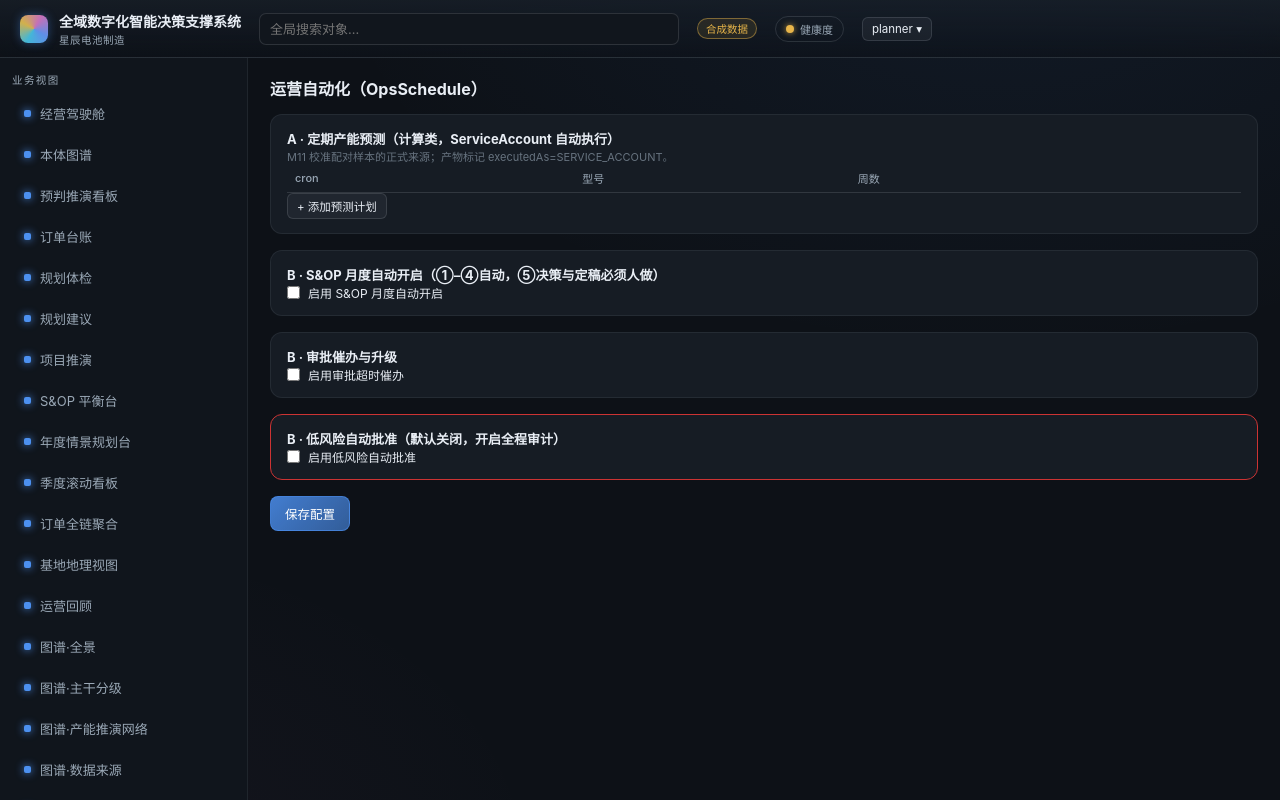
Test: F40 · 运营自动化（OpsSchedule） › tenant_admin 配置定期预测并保存；autoApprove 默认关闭
The image size is (1280, 800).
expect the element with test id "ops-schedule-page" is shown: met, box [270,76,1258,531]
expect the checkbox with test id "autoapprove-enabled" is not checked: met, box [287,450,300,463]
添加一条定期预测计划
What coordinates should you click on to do the following:
click the button with test id "add-forecast"
I would click on:
 (337, 206)
Its box is [287,193,387,219].
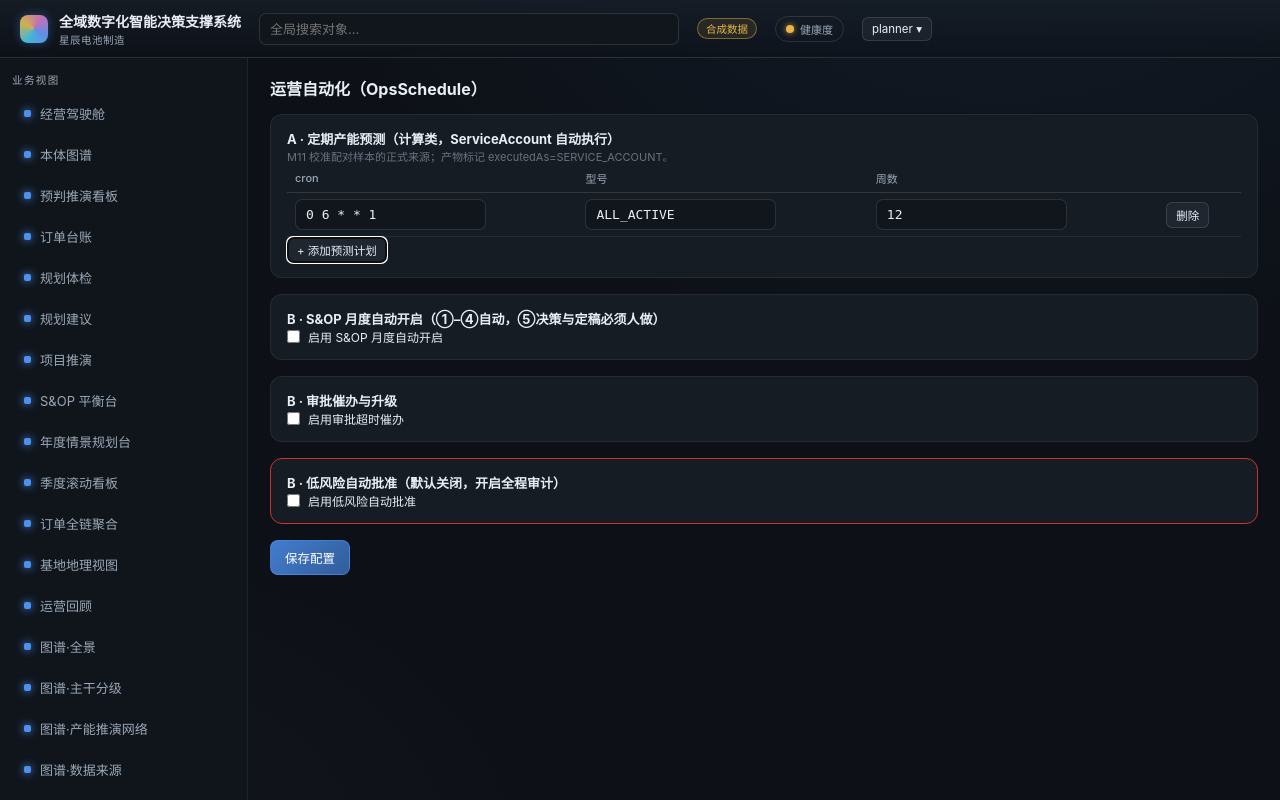
expect the row with test id "forecast-0" is shown: met, box [287,192,1241,236]
What coordinates should you click on to do the following:
click the checkbox with test id "reminder-enabled"
I would click on:
 (294, 418)
Its box is [287,412,300,425].
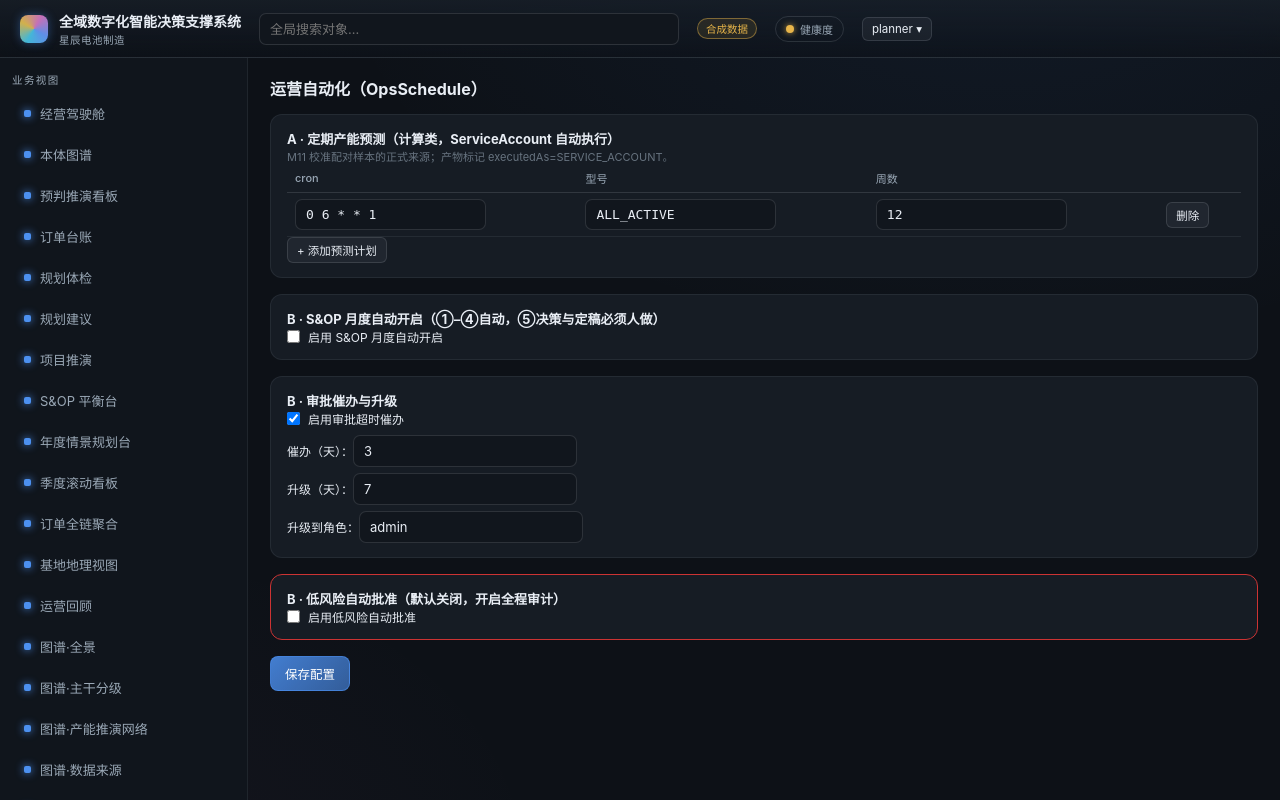
What coordinates should you click on to do the following:
click the button with test id "save-schedule"
I would click on:
 (310, 674)
Its box is [270,656,350,691].
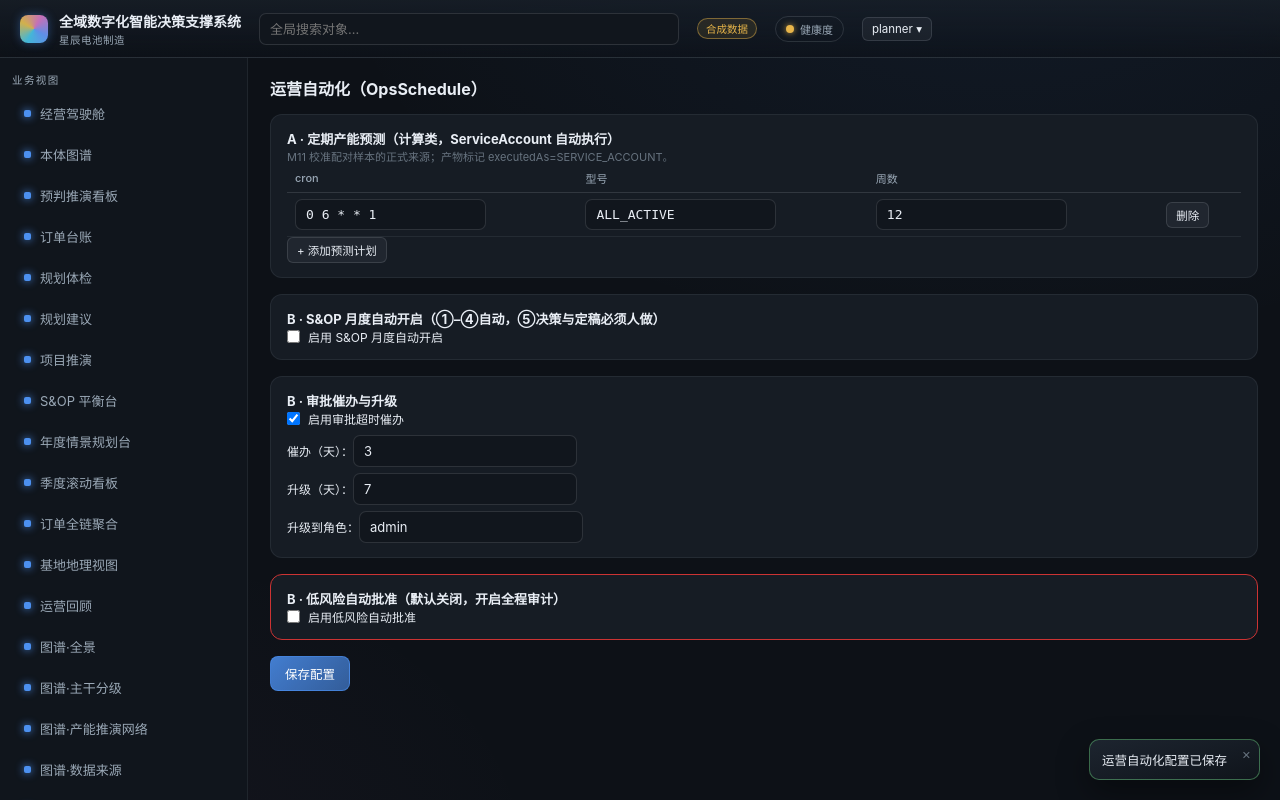
expect the text "运营自动化配置已保存" is shown: met, box [1102,750,1227,769]
